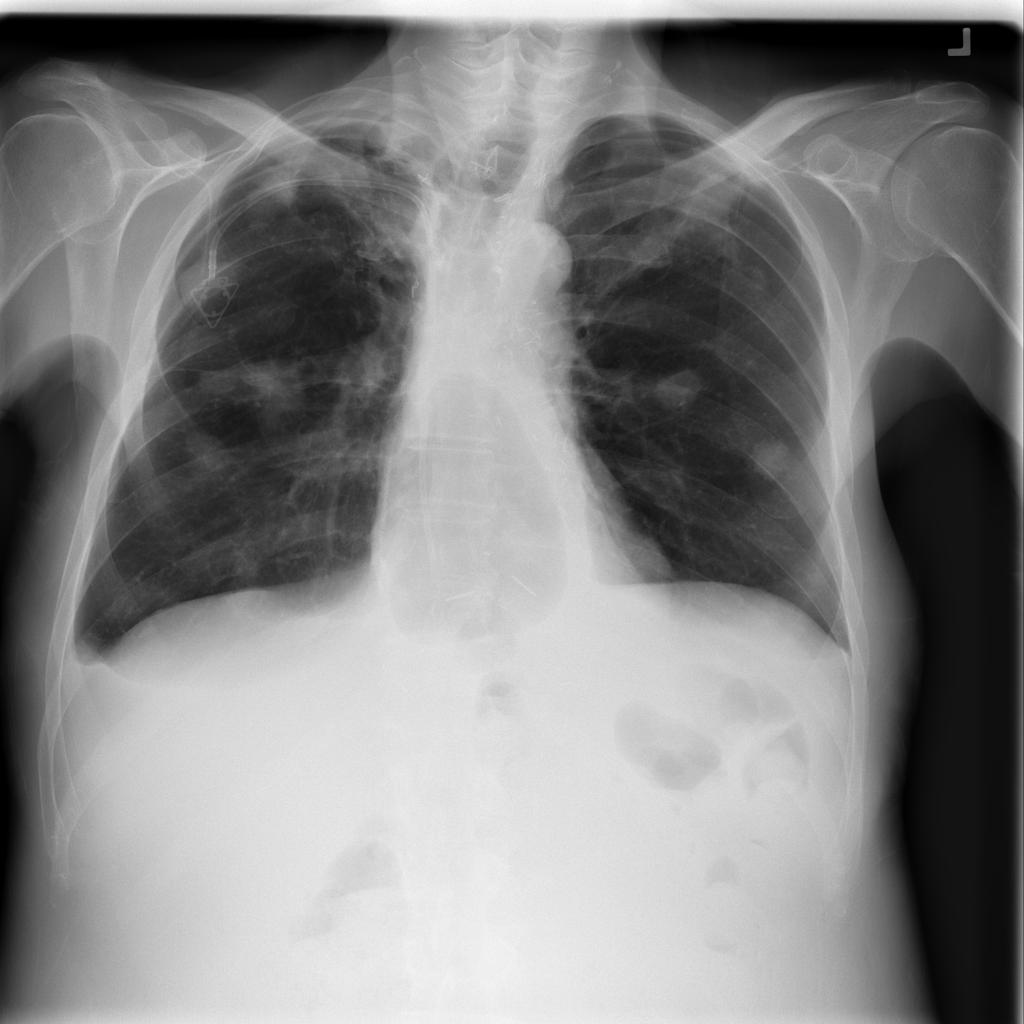nodule: (230, 347, 311, 430), (275, 201, 358, 270), (640, 353, 718, 426), (169, 420, 249, 488), (730, 426, 807, 494)
